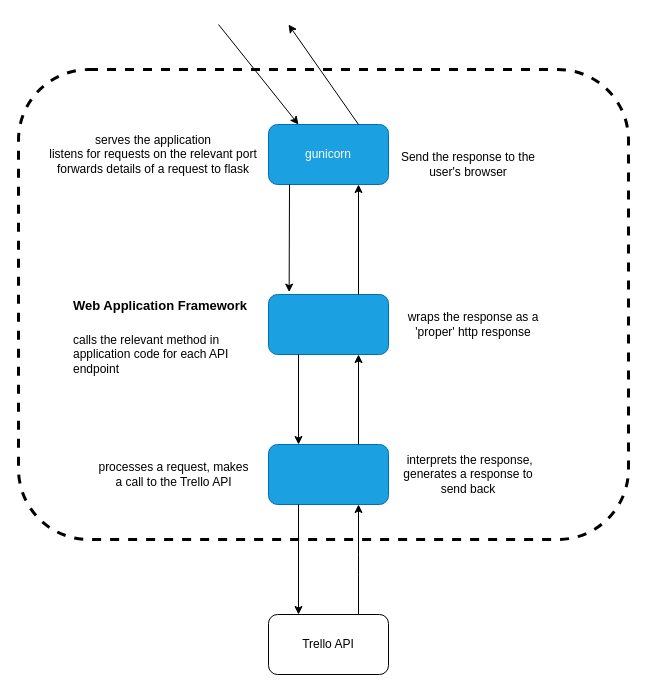
This 647x692 diagram has some shape labels left out. The box of each missing label's shape, as (x1, y1, x2, y2) in pixels:
Application code: (268, 444, 388, 504)
Flask: (268, 294, 388, 354)
